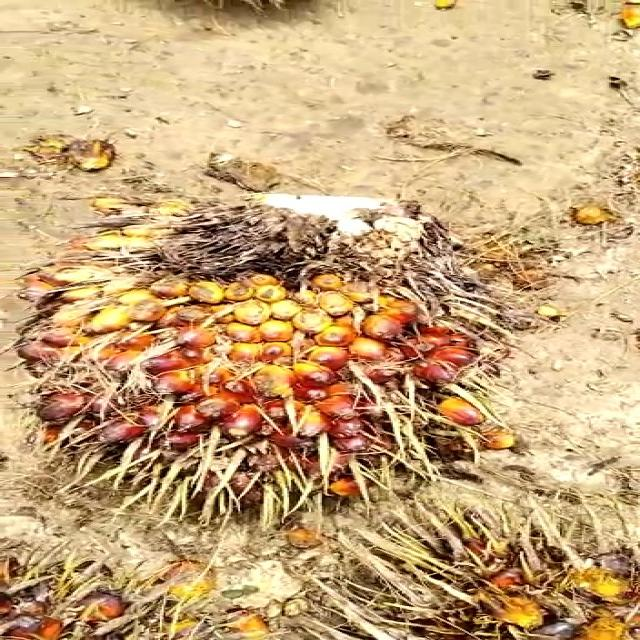palm oil: (18, 164, 529, 528)
